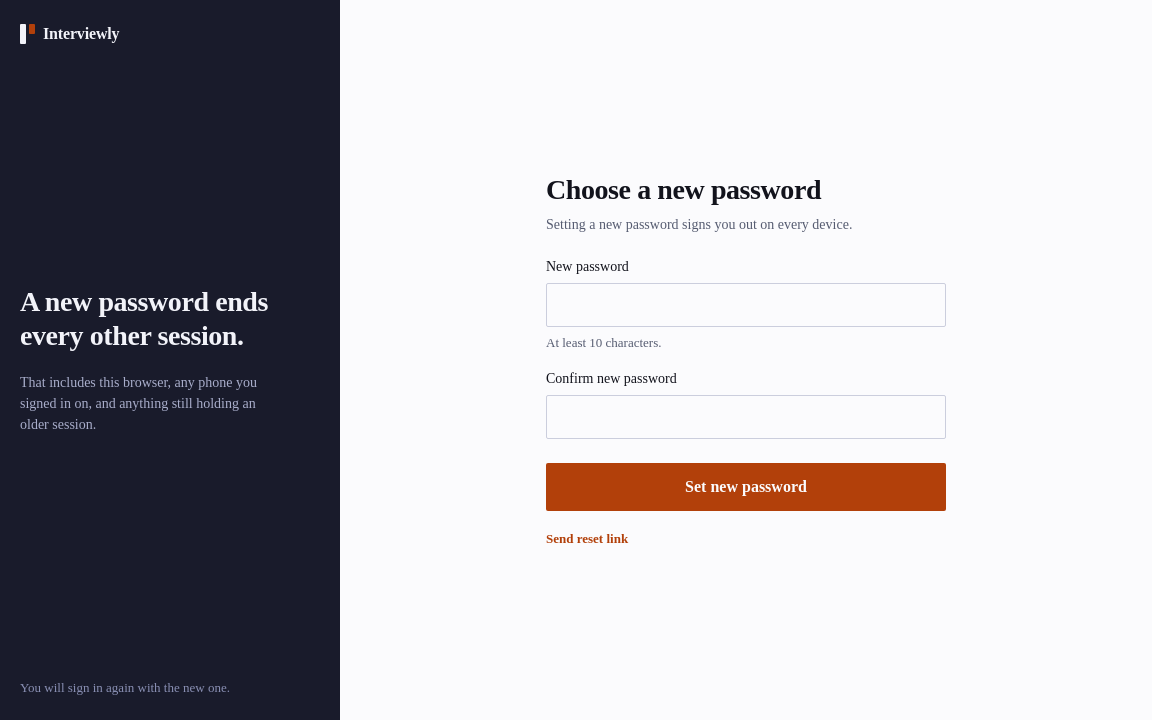
Test case: reset-password page › posts the route token with the new password and says the session is gone
Type "a-long-enough-password" into the password field labelled "New password" at (746, 304), box [546,282,946,326]
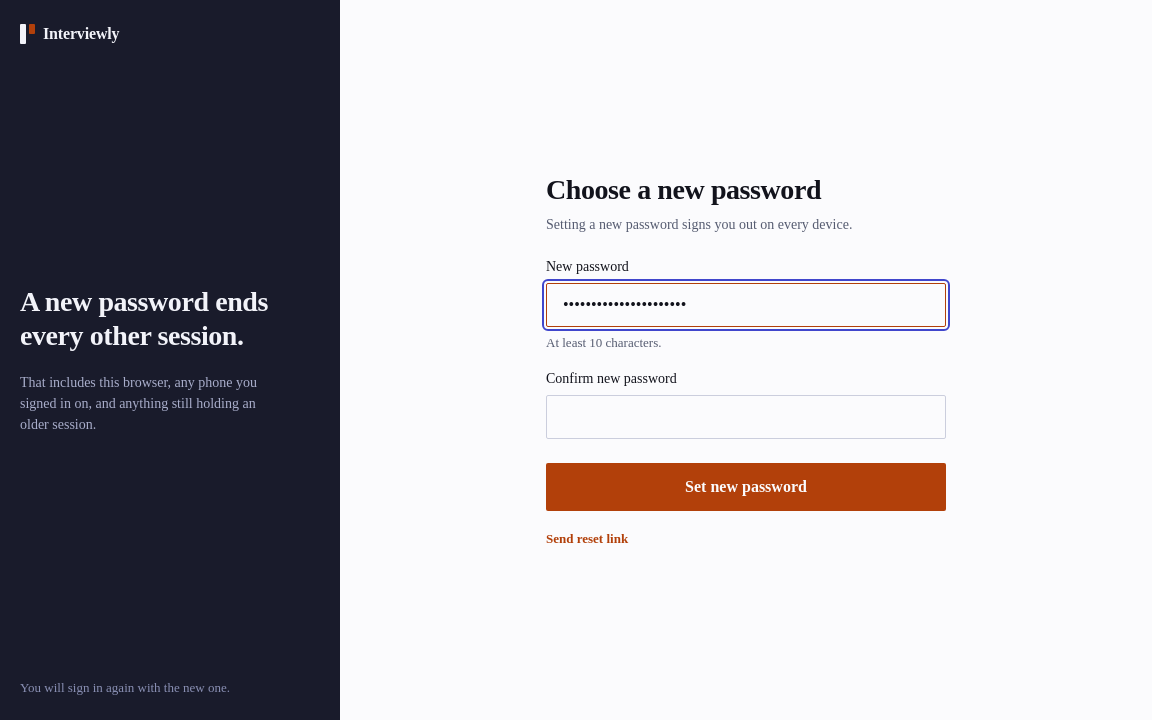
Type "a-long-enough-password" into the password field labelled "Confirm new password" at (746, 416), box [546,394,946,438]
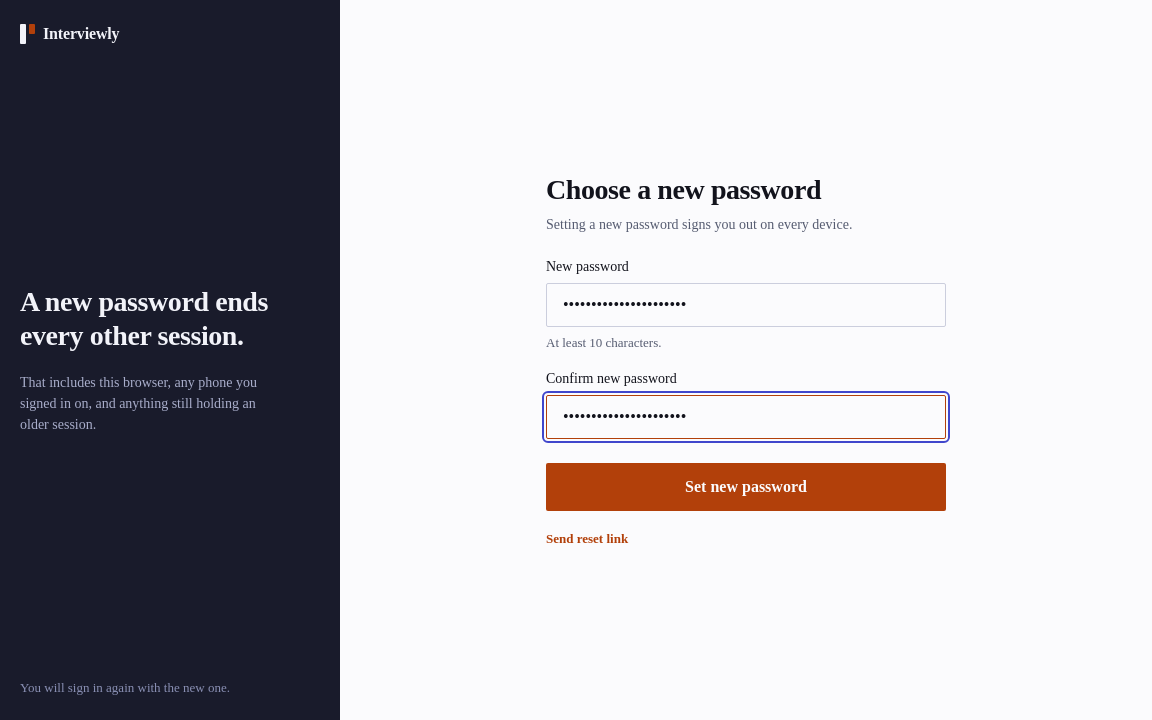
Click the button "Set new password" at (746, 486), box [546,462,946,510]
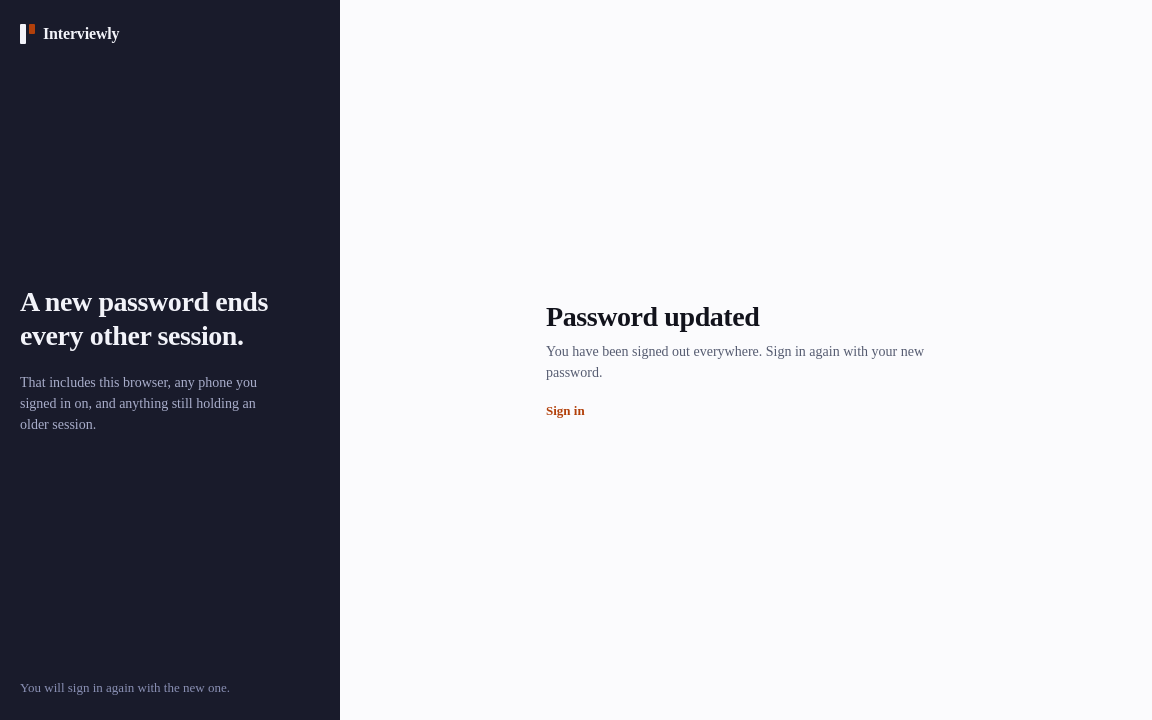
Now the text "You have been signed out everywhere. Sign in again with your new password." is shown, box [546,341,946,383]
